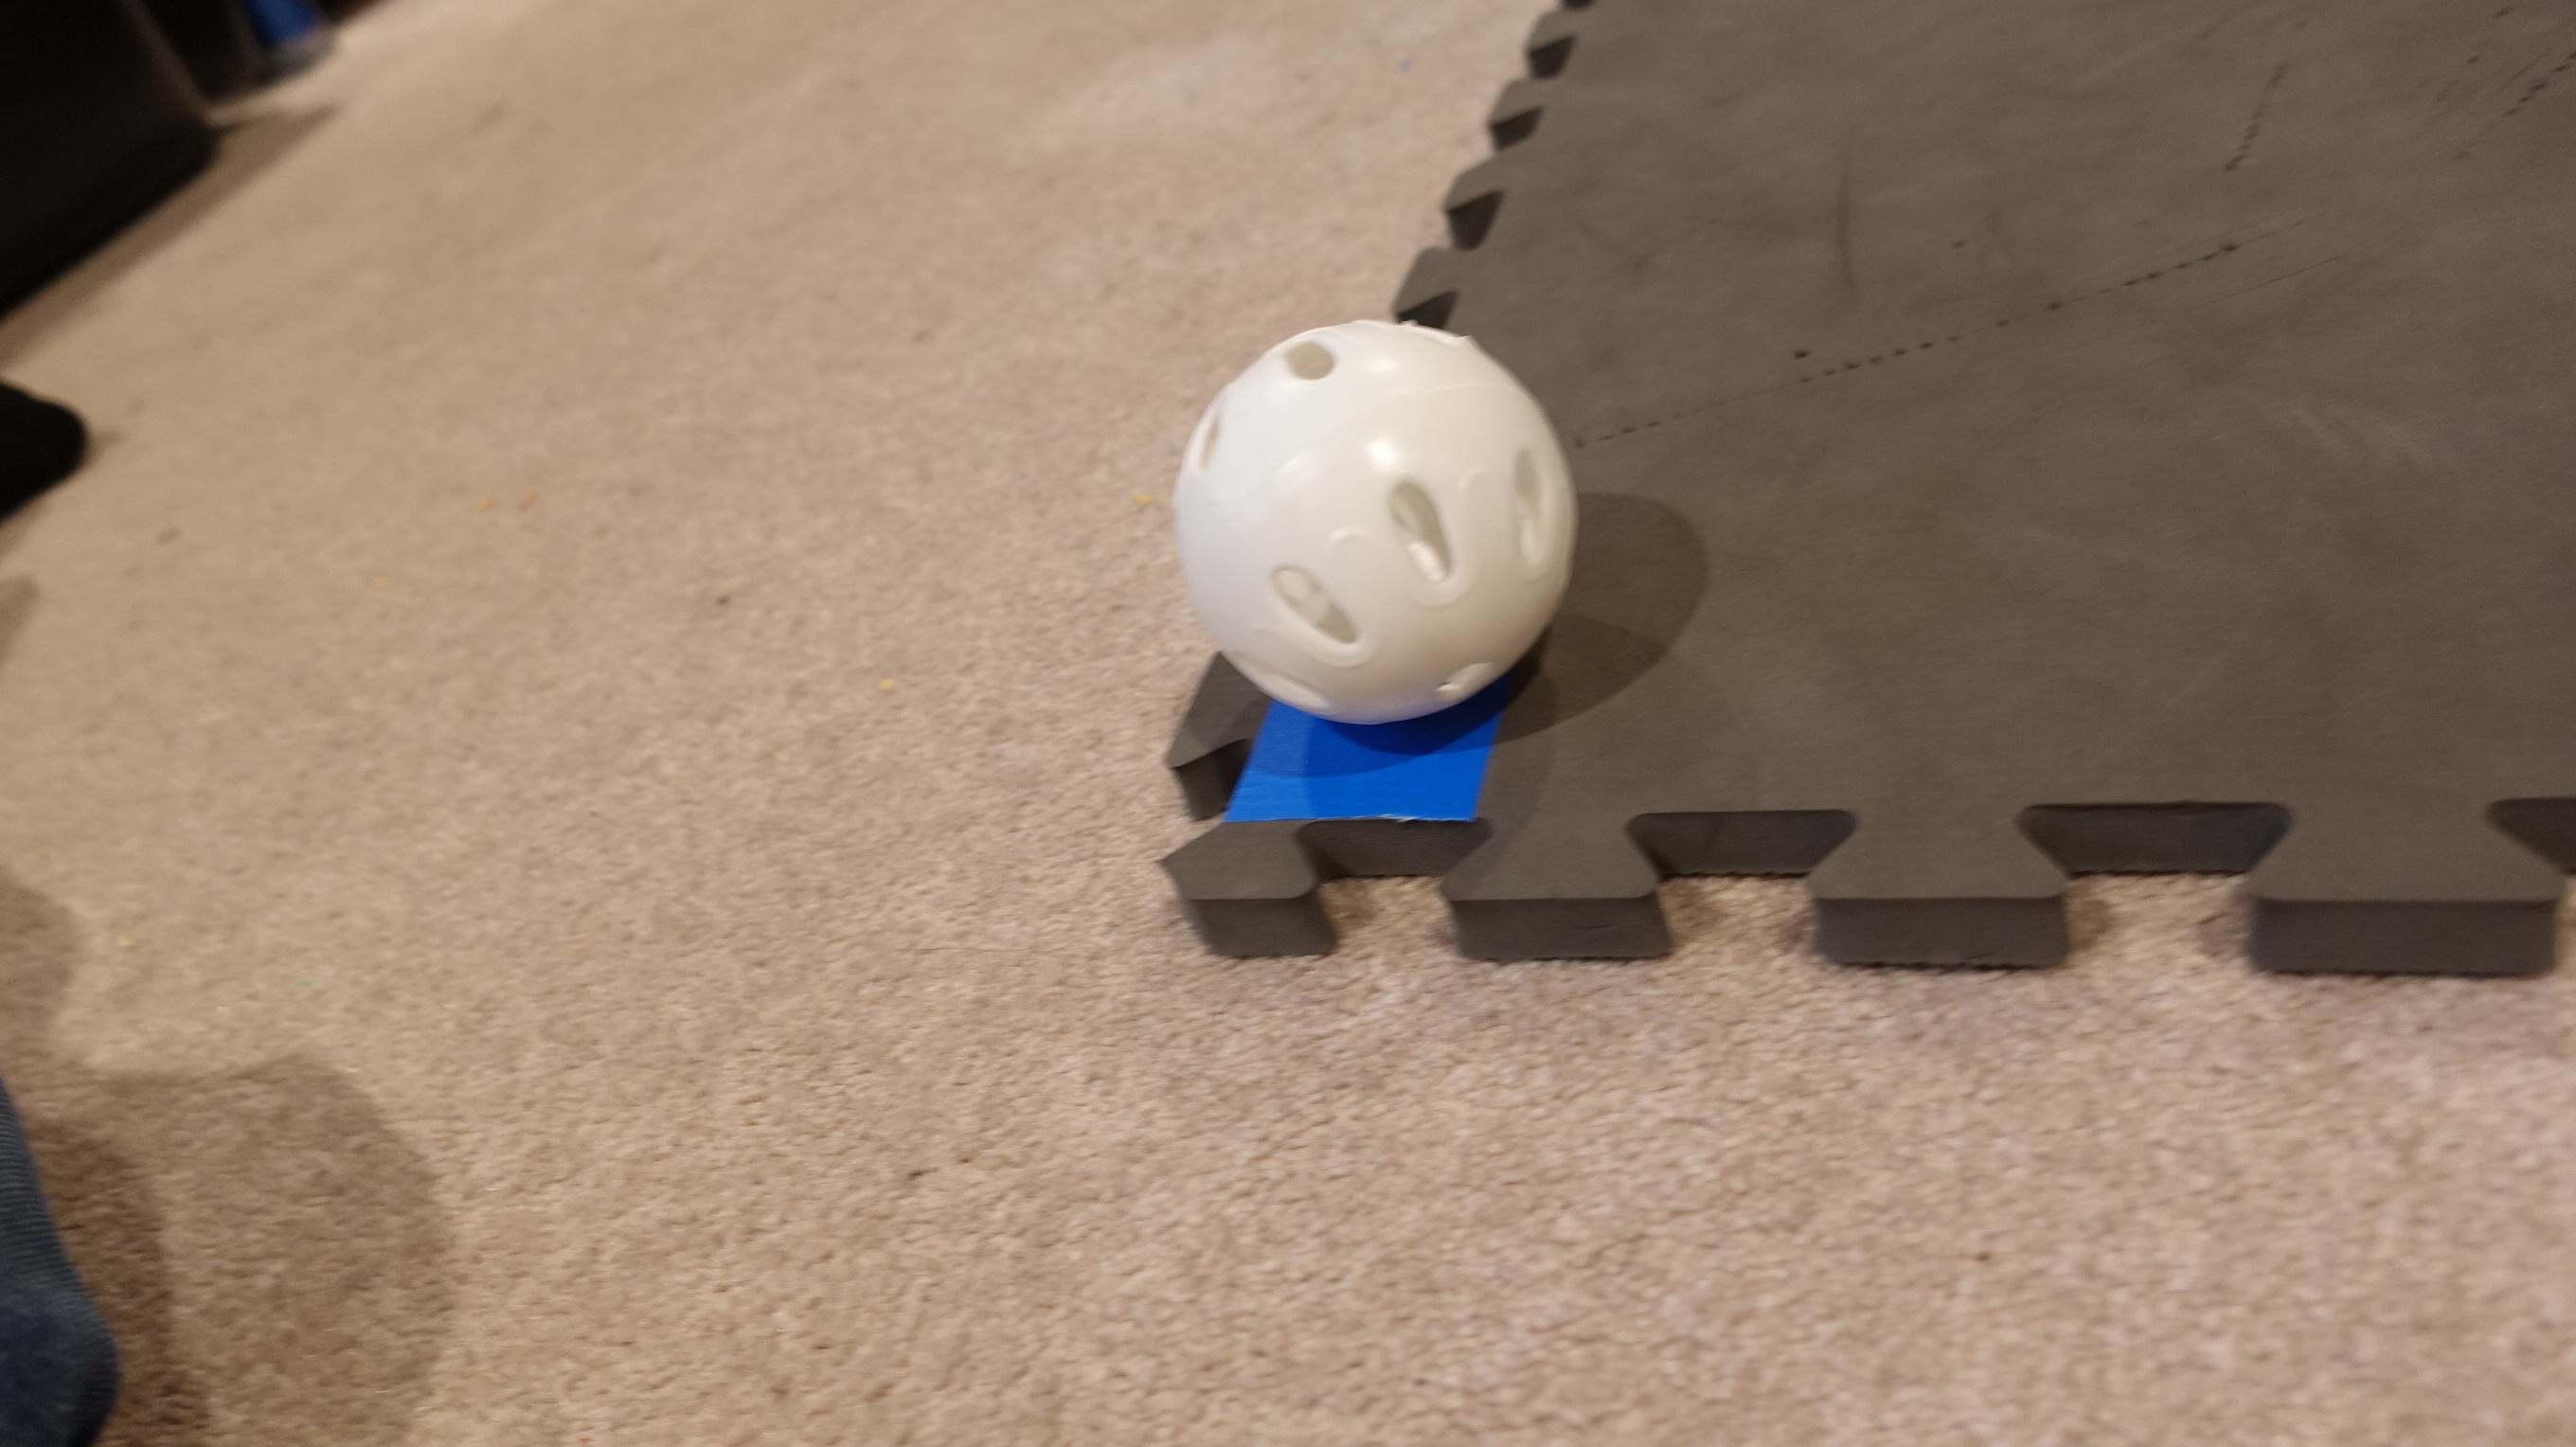silver: (1173, 315, 1582, 729)
